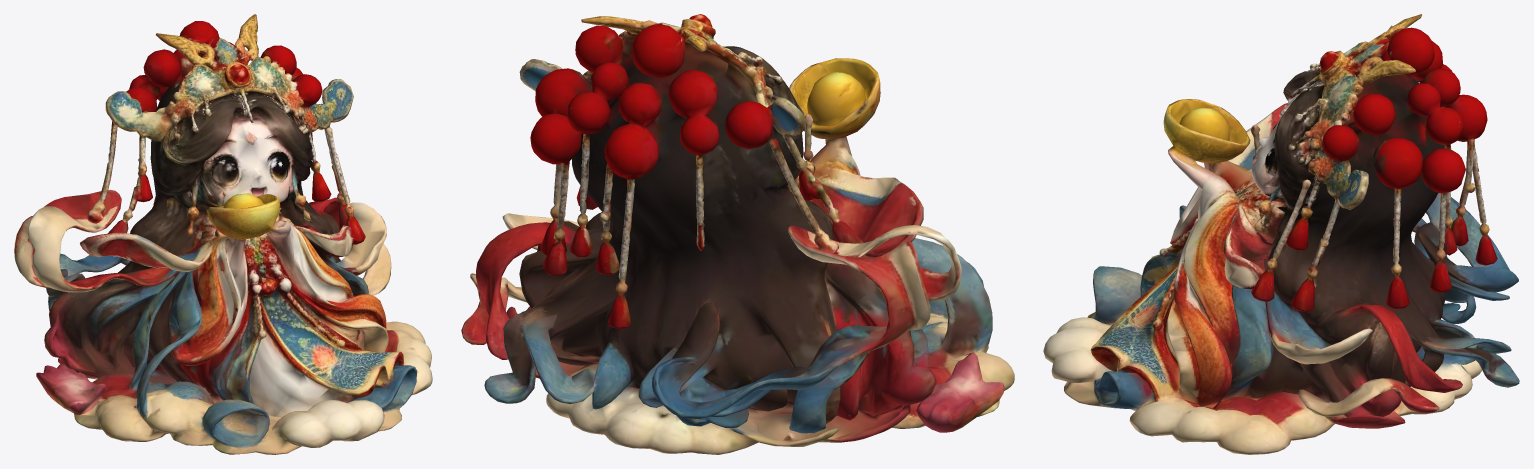
The model's file is cbthFes.glb.
3 renders of one model, left to right at view 1: azimuth 30°, elevation 25°; view 2: azimuth 150°, elevation 25°; view 3: azimuth 270°, elevation 25°, orthographic. The views are drawn at different scales.
Visible parts, largest first — view 1: node_0; view 2: node_0; view 3: node_0.
Boxes of the visible parts, bbox=[...] form: node_0: bbox=[14, 14, 432, 454]; node_0: bbox=[461, 14, 1014, 454]; node_0: bbox=[1043, 14, 1519, 454].
Size of the model in its own units: 0.9207 by 0.7277 by 0.9174.
1 material, 1 textured.
